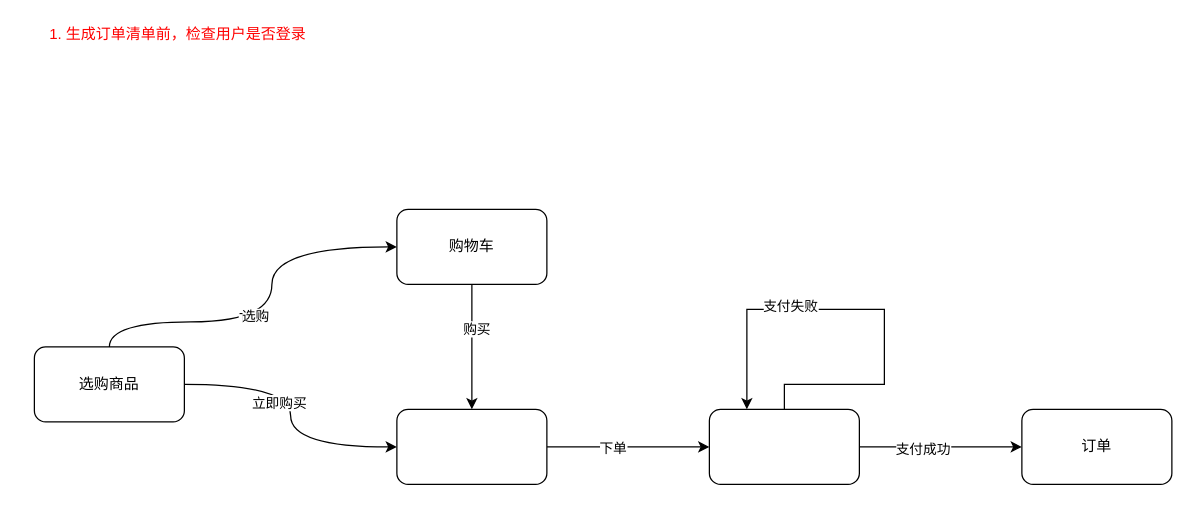
This 1194x506 diagram has some shape labels left out. Here are the shapes that lost their labels. From the top down, the centre of each, then its label:
At point (471, 446): "订单清单".
At point (783, 446): "待付订单".
